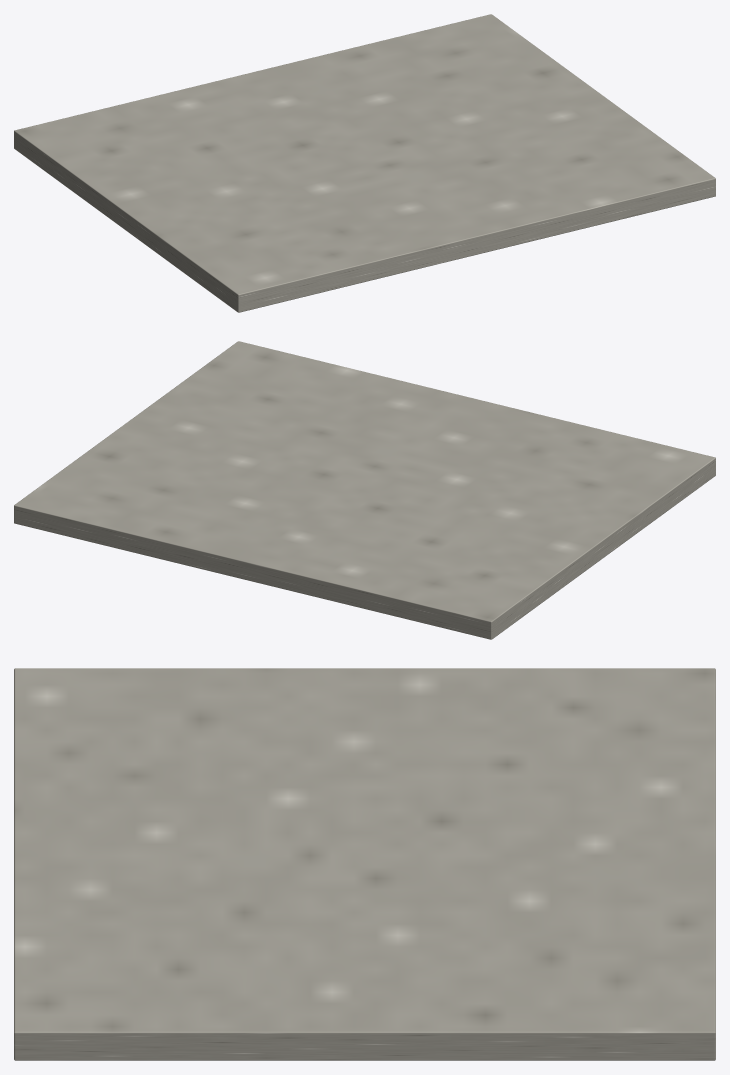
File: stair-landing.glb
3 views of the same model, one above another, from view 1: azimuth 30°, elevation 25°; view 2: azimuth 150°, elevation 25°; view 3: azimuth 270°, elevation 25° (orthographic). The views are drawn at different scales.
Visible parts, largest first — view 1: Landing_Slab; view 2: Landing_Slab; view 3: Landing_Slab.
Boxes of the visible parts, left/top/right/bottom form: Landing_Slab: left=14, top=14, right=715, bottom=312; Landing_Slab: left=14, top=341, right=715, bottom=639; Landing_Slab: left=14, top=668, right=715, bottom=1060.
Size of the model in its own units: 7 by 0.26 by 5.7.
Materials: 1 (1 with a texture image).
